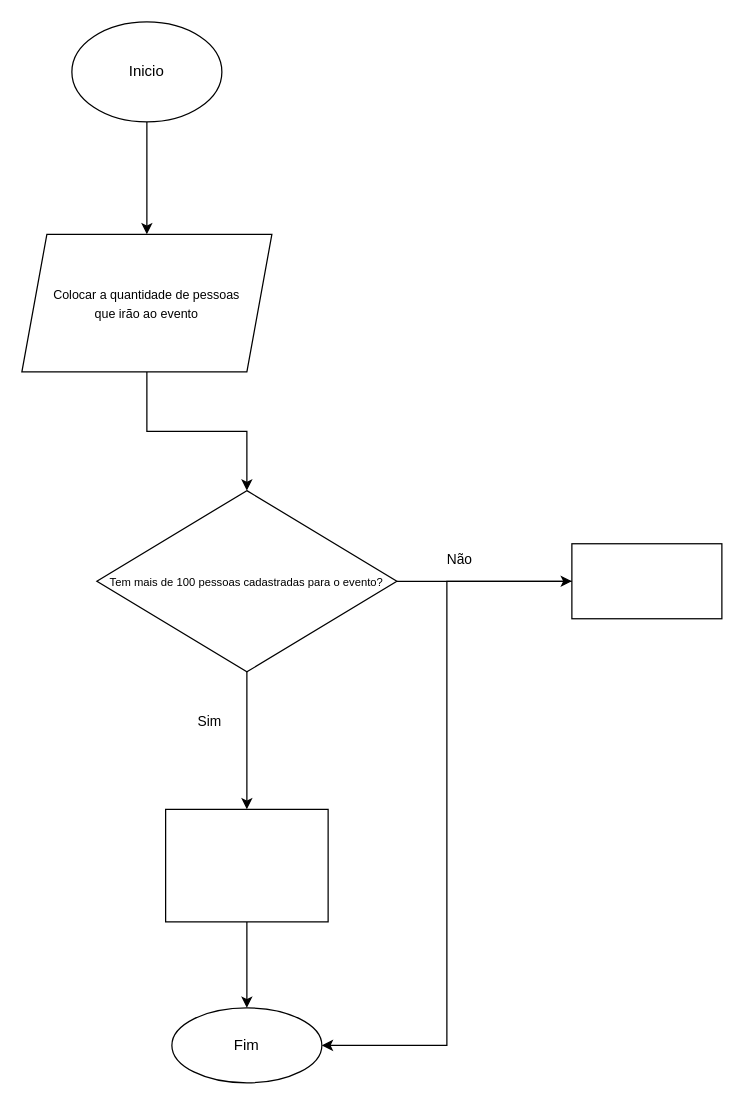
Image size: 744x1105. Some labels were removed from this diagram. The centre of each missing label's shape, as x and y in pixels:
"Cadastro não será permitido por ter excedido o limite de pessoas" belongs at pixel 246 865.
"Permitir cadastro" belongs at pixel 646 580.
